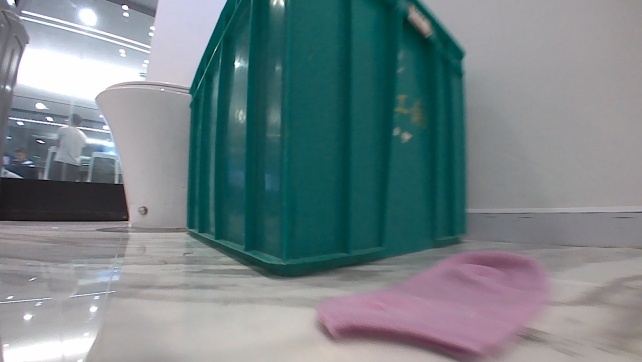socks: (310, 246, 551, 361)
toilet: (93, 76, 190, 232)
